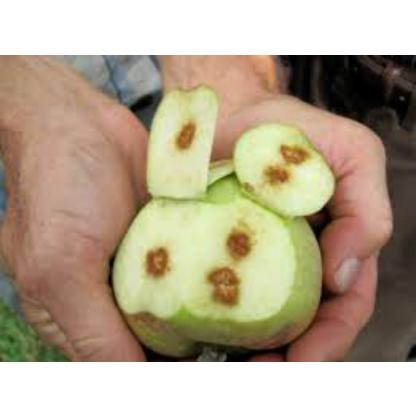damaged_apple: (112, 103, 330, 351)
